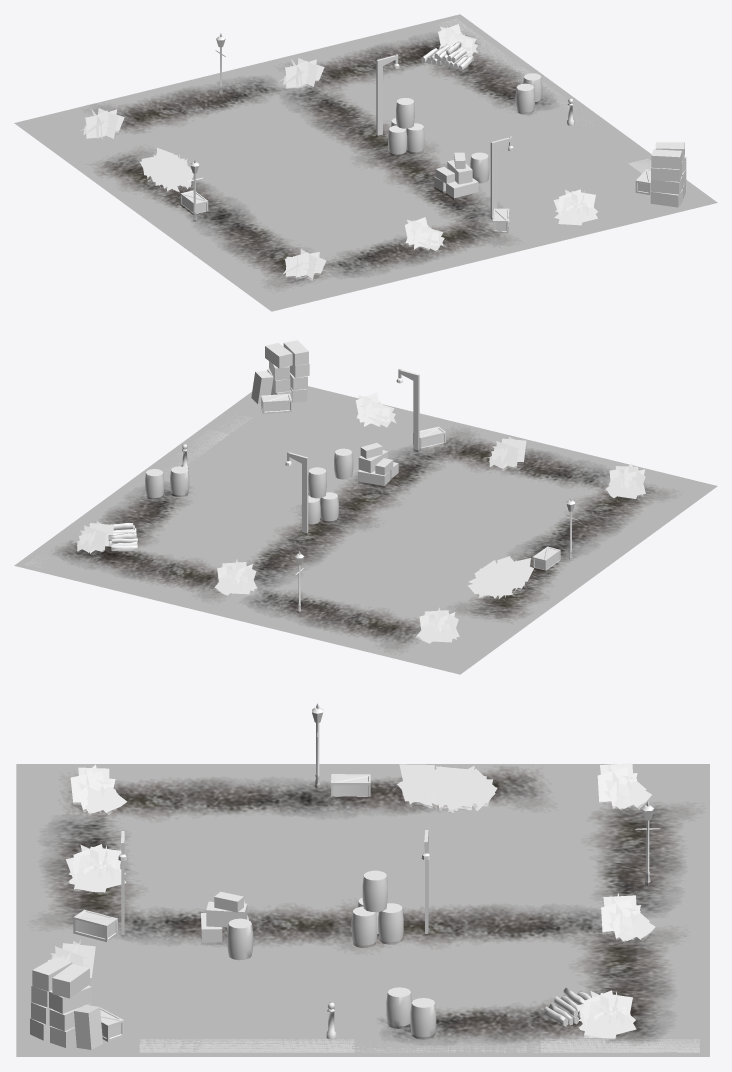
Rendered from propsonly_1.gltf.
3 views of the same model, one above another, from view 1: azimuth 30°, elevation 25°; view 2: azimuth 150°, elevation 25°; view 3: azimuth 270°, elevation 25° (orthographic). The views are drawn at different scales.
Visible parts, largest first — view 1: file_b1_ground2.001, file_b1_ground1.003, file_b1_ground1.015, file_b1_ground3.001, file_b1_ground1.001, file_b1_ground3.002, file_b1_ground3.004, file_b1_ground1.004, file_b1_ground1.006, file_b1_ground1.028, file_b1_ground3.006, file_b1_ground3.005 (+29 smaller); view 2: file_b1_ground1.015, file_b1_ground2.001, file_b1_ground1.004, file_b1_ground1.003, file_b1_ground3.001, file_b1_ground1.001, file_b1_ground3.004, file_b1_ground.004, file_b1_ground3.005, file_b1_ground1.028, file_b2_ground3.013, file_b1_ground1.002 (+32 smaller); view 3: file_b1_ground1.001, file_b1_ground3.004, file_b1_ground1.015, file_b1_ground1.004, file_b1_ground3.002, file_b1_ground1.006, file_b1_ground3.001, file_b1_ground2.001, file_b1_ground1.003, file_b1_ground1.005, file_b1_ground1.028, file_b1_ground1.002 (+30 smaller).
Part boxes in pixels (left/top/right/bottom): file_b1_ground2.001: left=470, top=106, right=651, bottom=185; file_b1_ground1.003: left=200, top=113, right=367, bottom=192; file_b1_ground1.015: left=132, top=65, right=317, bottom=144; file_b1_ground3.001: left=14, top=94, right=202, bottom=173; file_b1_ground1.001: left=140, top=188, right=327, bottom=264; file_b1_ground3.002: left=203, top=232, right=388, bottom=311; file_b1_ground3.004: left=403, top=60, right=588, bottom=139; file_b1_ground1.004: left=323, top=205, right=499, bottom=284; file_b1_ground1.006: left=232, top=41, right=418, bottom=120; file_b1_ground1.028: left=255, top=166, right=425, bottom=235; file_b1_ground3.006: left=428, top=183, right=607, bottom=258; file_b1_ground3.005: left=341, top=14, right=528, bottom=89; file_b1_ground1.015: left=224, top=566, right=402, bottom=645; file_b1_ground2.001: left=140, top=424, right=326, bottom=502; file_b1_ground1.004: left=430, top=430, right=608, bottom=507; file_b1_ground1.003: left=302, top=525, right=481, bottom=601; file_b1_ground3.001: left=343, top=596, right=528, bottom=674; file_b1_ground1.001: left=484, top=503, right=654, bottom=582; file_b1_ground3.004: left=77, top=469, right=264, bottom=546; file_b1_ground.004: left=186, top=503, right=367, bottom=575; file_b1_ground3.005: left=14, top=515, right=195, bottom=594; file_b1_ground1.028: left=375, top=477, right=528, bottom=555; file_b2_ground3.013: left=203, top=386, right=390, bottom=453; file_b1_ground1.002: left=404, top=549, right=585, bottom=625; file_b1_ground1.001: left=185, top=764, right=371, bottom=842; file_b1_ground3.004: left=354, top=978, right=540, bottom=1056; file_b1_ground1.015: left=524, top=841, right=709, bottom=919; file_b1_ground1.004: left=16, top=835, right=202, bottom=914; file_b1_ground3.002: left=16, top=764, right=202, bottom=842; file_b1_ground1.006: left=524, top=907, right=709, bottom=985; file_b1_ground3.001: left=524, top=764, right=709, bottom=842; file_b1_ground2.001: left=185, top=978, right=371, bottom=1056; file_b1_ground1.003: left=354, top=837, right=540, bottom=914; file_b1_ground1.005: left=185, top=914, right=371, bottom=985; file_b1_ground1.028: left=185, top=835, right=371, bottom=914; file_b1_ground1.002: left=354, top=764, right=540, bottom=842.
Size of what is drawn, in the model's own units: 4.22 by 0.7405 by 4.16.
